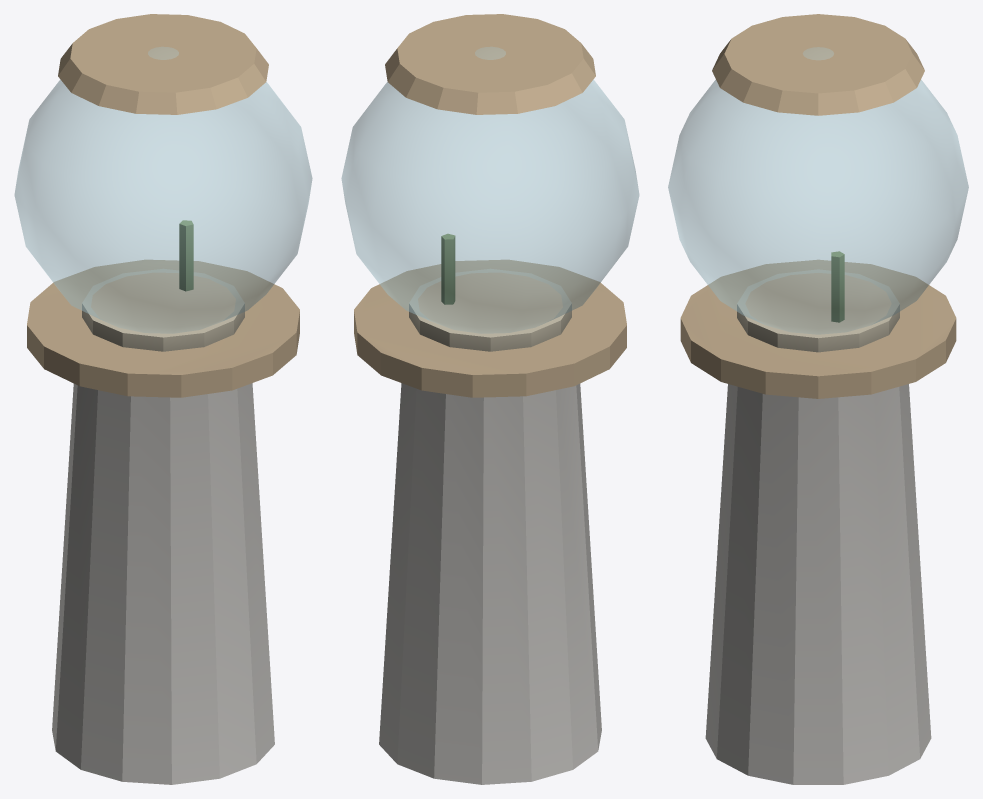
The model's file is furn_fish_bowl__white.glb.
3 views of the same model, side by side, from view 1: azimuth 30°, elevation 25°; view 2: azimuth 150°, elevation 25°; view 3: azimuth 270°, elevation 25° (orthographic).
Bounding box in the file's own units: 0.48 × 1.21 × 0.48.
